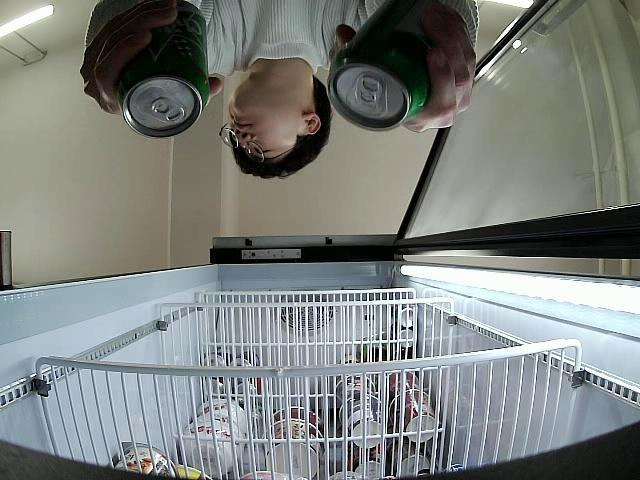12_chilsungCider: (328, 0, 467, 132), (122, 0, 208, 139)
